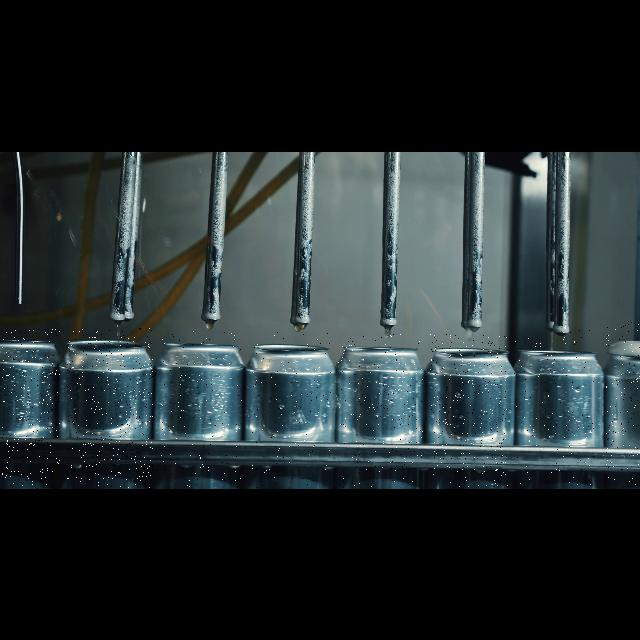empty: (67, 328, 153, 488), (338, 334, 424, 488), (160, 329, 242, 489), (514, 330, 594, 488), (251, 332, 331, 488), (430, 334, 508, 488), (2, 329, 60, 489)
full: (606, 320, 640, 488)
